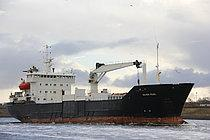Ship: (8, 44, 195, 129)
